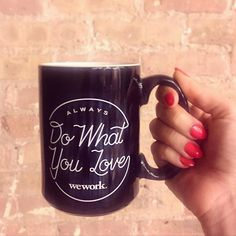wework: (66, 180, 105, 191)
